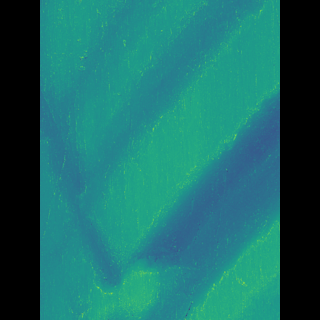Loch: (102, 76, 250, 319), (126, 0, 240, 142)
